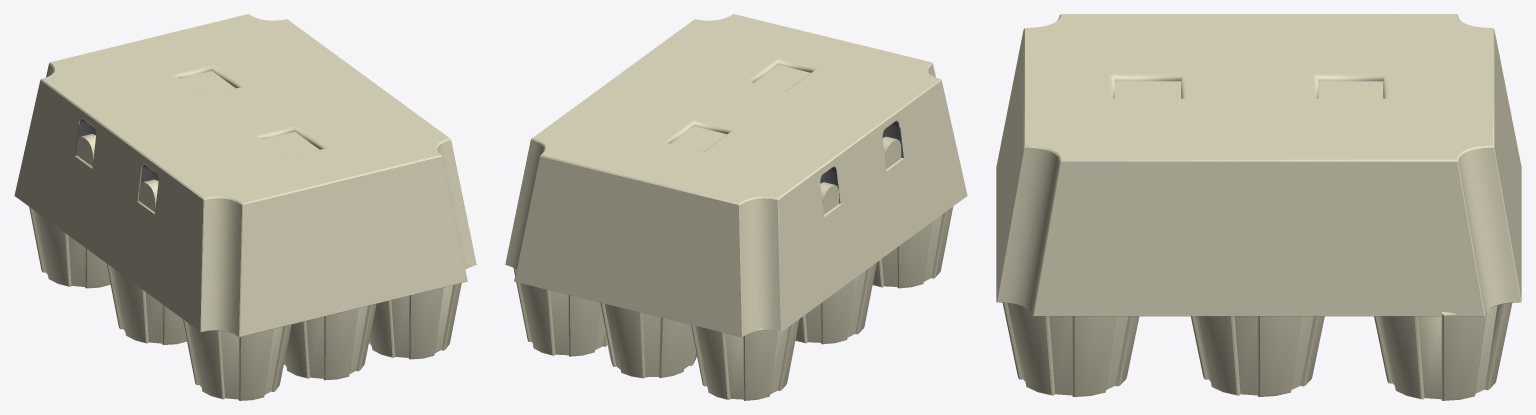
The model's file is P_boite_oeuf.fbx.
The picture shows the model from 3 angles, left to right: view 1: azimuth 30°, elevation 25°; view 2: azimuth 150°, elevation 25°; view 3: azimuth 270°, elevation 25°; orthographic projection. The views are drawn at different scales.
Visible parts, largest first — view 1: Box001; view 2: Box001; view 3: Box001.
Part boxes in pixels (x1,y1,x2,y2): Box001: [14, 14, 476, 400]; Box001: [505, 14, 967, 400]; Box001: [996, 14, 1521, 400].
Bounding box in the file's own units: 7.24 × 4.91 × 9.76.
